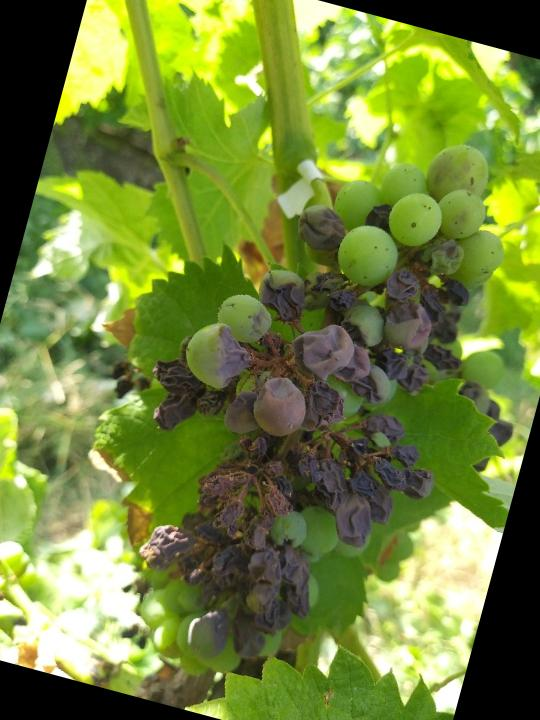grape: (74, 77, 540, 720)
